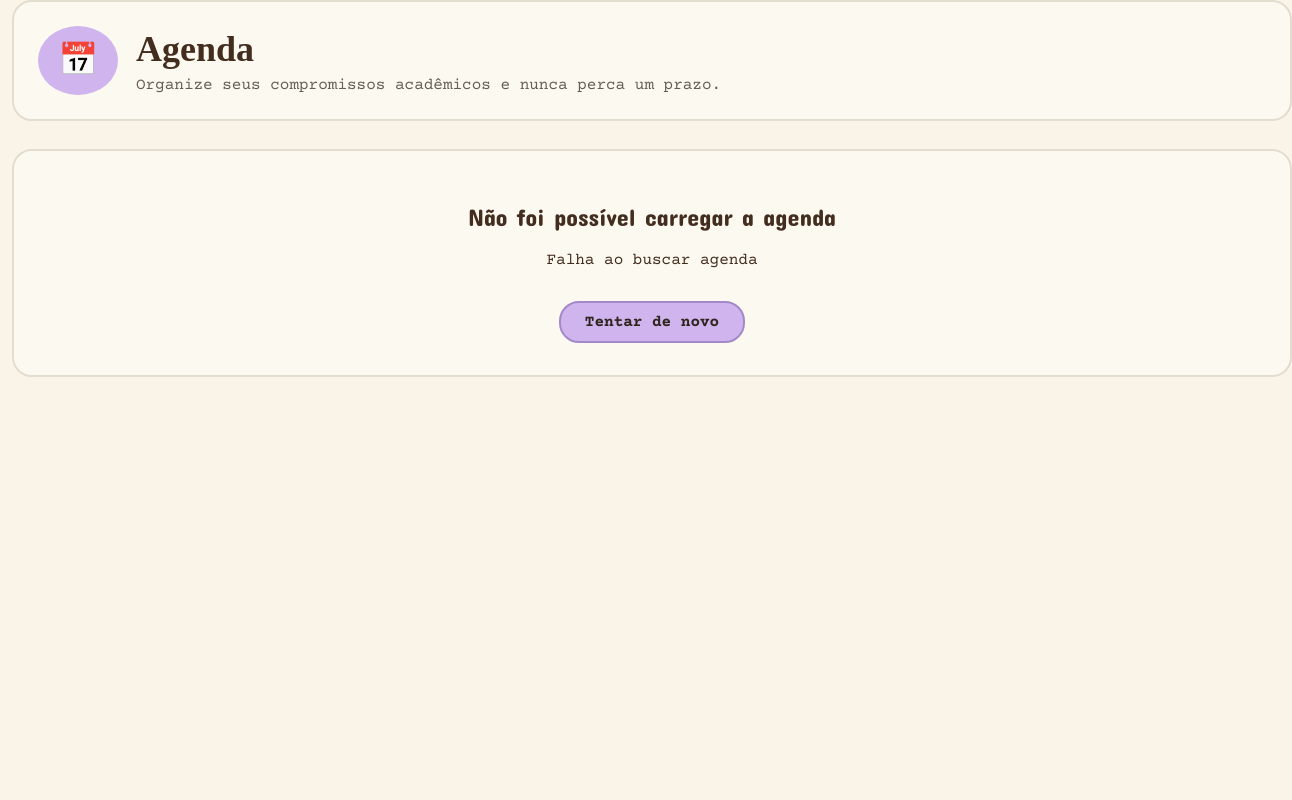
it: Página Agenda com integração GET /agenda › exibe estado de erro e permite "Tentar de novo"
The image size is (1292, 800).
Expected: the message "Não foi possível carregar a agenda Falha ao buscar agenda Tentar de novo" is shown, 12,149 -> 1291,377
Expected: the text "Falha ao buscar agenda" is shown, 546,251 -> 758,269
Click the button "Tentar de novo": point(652, 322) 559,301 -> 745,343
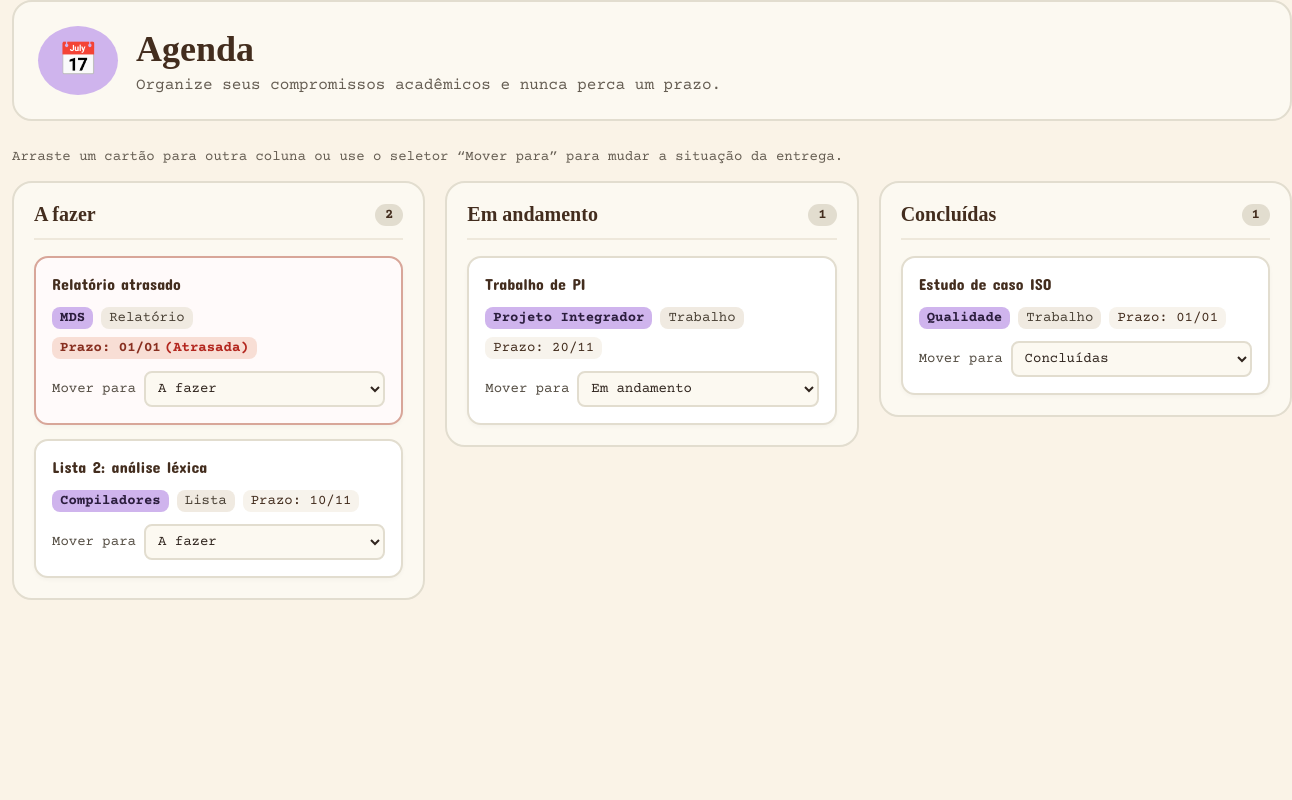
Result: the heading "Lista 2: análise léxica" is shown at 52,457 -> 207,476
